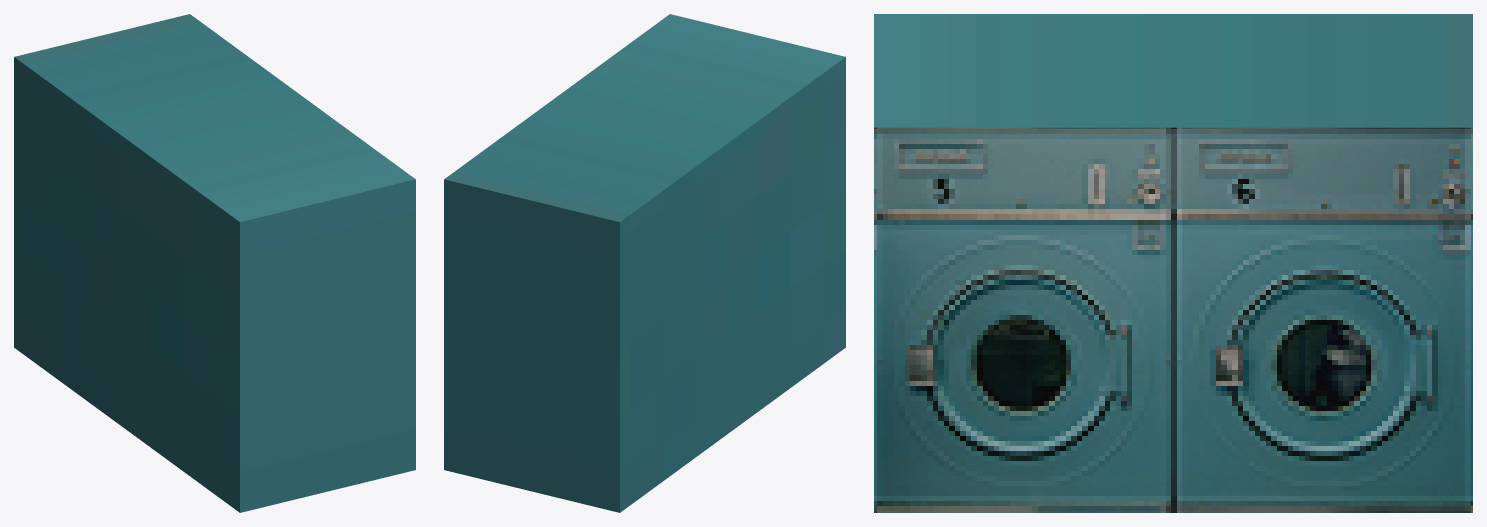
Rendered from laundrymachineblue.glb.
The picture shows the model from 3 angles, left to right: view 1: azimuth 30°, elevation 25°; view 2: azimuth 150°, elevation 25°; view 3: azimuth 270°, elevation 25°; orthographic projection. The views are drawn at different scales.
Visible parts, largest first — view 1: laundrymachineblue; view 2: laundrymachineblue; view 3: laundrymachineblue.
Boxes of the visible parts, bbox=[...] form: laundrymachineblue: bbox=[14, 14, 415, 512]; laundrymachineblue: bbox=[444, 14, 845, 512]; laundrymachineblue: bbox=[874, 14, 1472, 512].
Bounding box in the file's own units: 2.28 × 3.6 × 5.07.
1 material, 1 textured.
